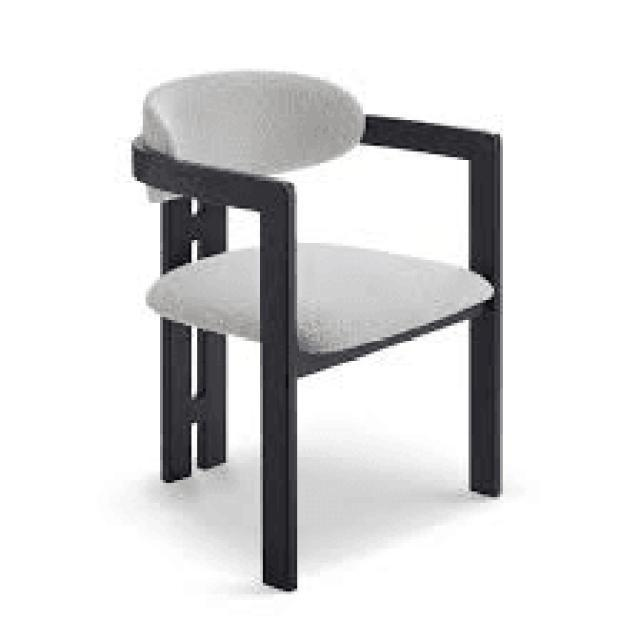chair: (128, 63, 508, 602), (138, 75, 500, 327)
